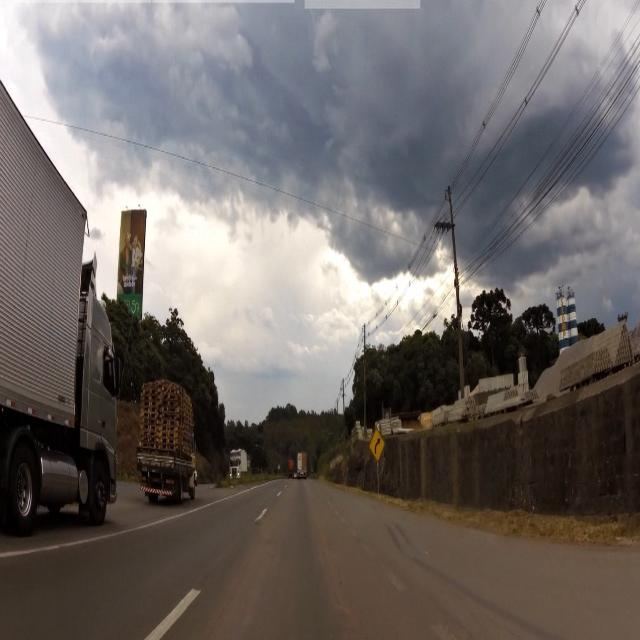A-2b: (370, 427, 386, 463)
